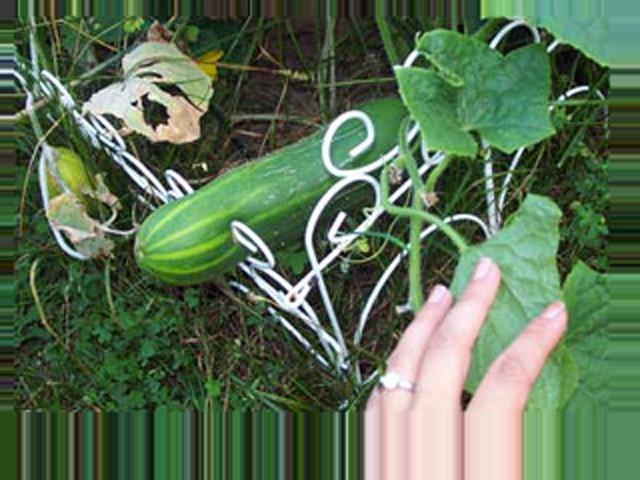cucumber: (134, 96, 412, 284)
